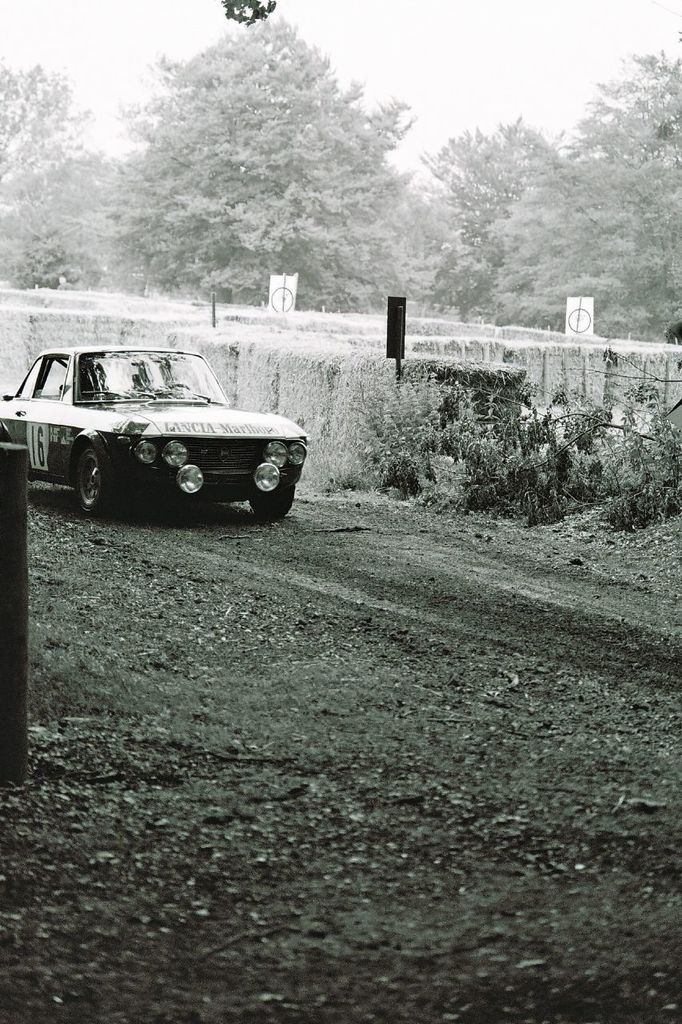Car: (0, 329, 308, 524)
